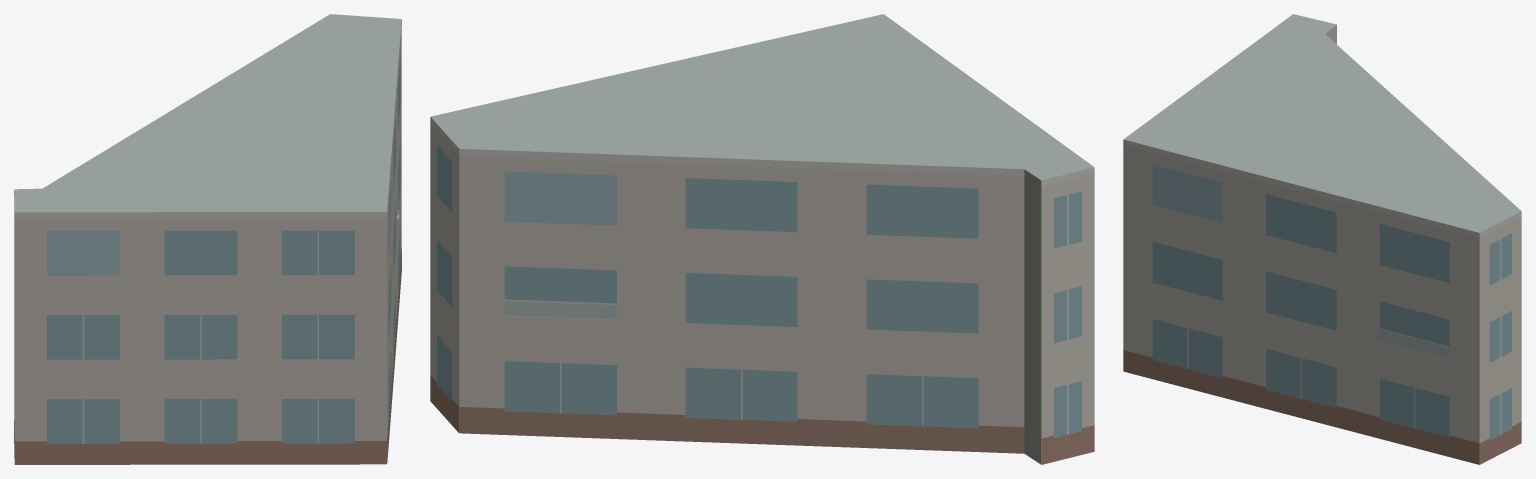
Rendered from survey-upis-32657091.glb.
3 renders of one model, left to right at view 1: azimuth 30°, elevation 25°; view 2: azimuth 150°, elevation 25°; view 3: azimuth 270°, elevation 25°, orthographic. The views are drawn at different scales.
Visible parts, largest first — view 1: survey-upis-32657091.tmp; view 2: survey-upis-32657091.tmp; view 3: survey-upis-32657091.tmp.
Boxes of the visible parts, x1,y1,x2,y2 form: survey-upis-32657091.tmp: (14, 14, 401, 464); survey-upis-32657091.tmp: (430, 14, 1094, 464); survey-upis-32657091.tmp: (1123, 14, 1521, 464).
Bounding box in the file's own units: 19.84 × 9.8 × 15.26.
